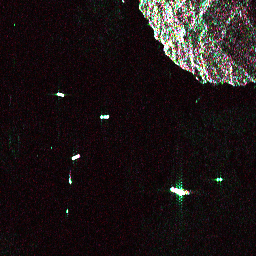ship: (167, 184, 191, 198), (69, 152, 82, 163), (54, 90, 66, 100), (99, 112, 110, 120), (214, 175, 223, 182)
